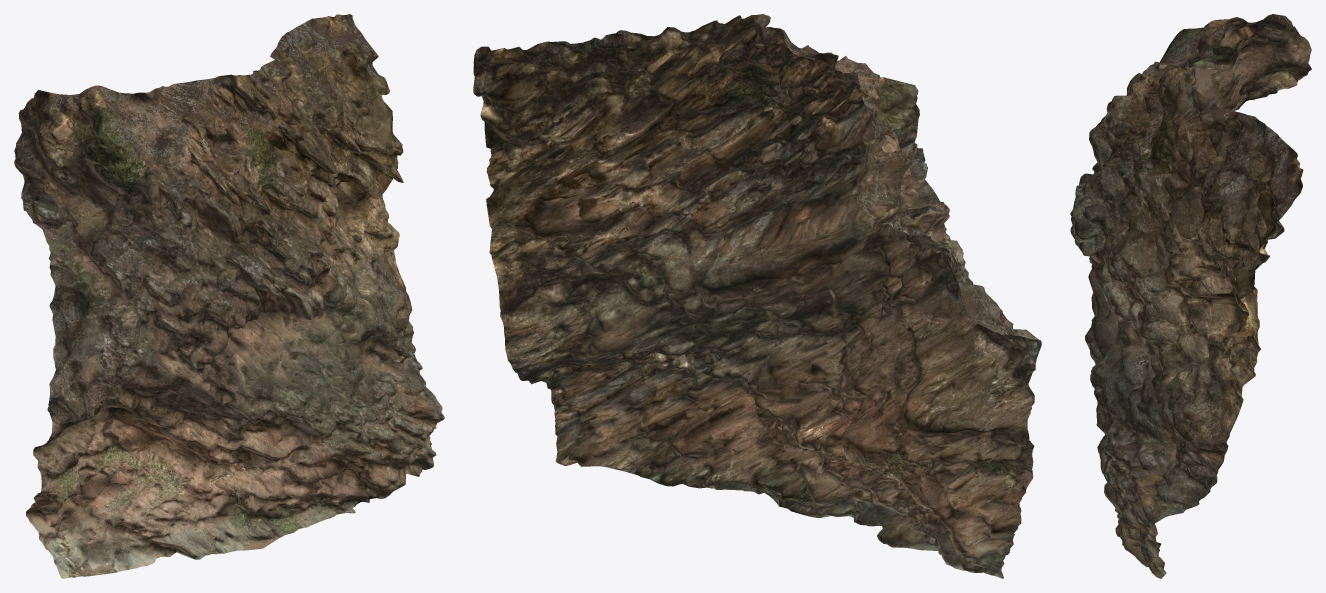
The model's file is mountainside.glb.
3 renders of one model, left to right at view 1: azimuth 30°, elevation 25°; view 2: azimuth 150°, elevation 25°; view 3: azimuth 270°, elevation 25°, orthographic. The views are drawn at different scales.
Parts seen in each view (by area): view 1: mountainside; view 2: mountainside; view 3: mountainside.
Boxes of the visible parts, bbox=[...] form: mountainside: bbox=[14, 14, 444, 578]; mountainside: bbox=[473, 14, 1041, 578]; mountainside: bbox=[1070, 14, 1311, 578].
Size of the model in its own units: 10.21 by 10.52 by 5.25.
1 material, 1 textured.
